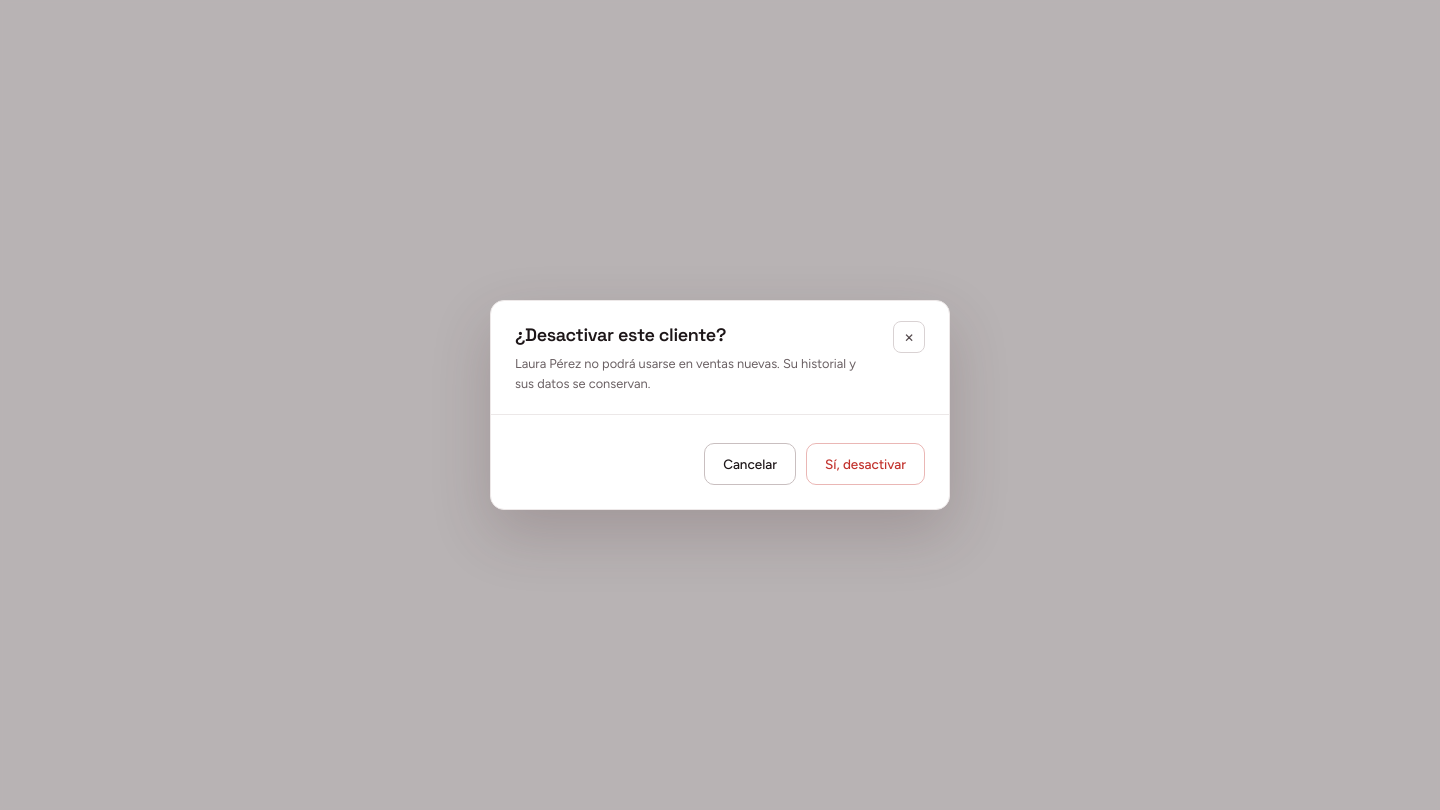
Test: CustomerStatusModal errors › tells when the customer no longer exists
Click the button "Sí, desactivar" at [865, 464], box x1=806 y1=443 x2=925 y2=485
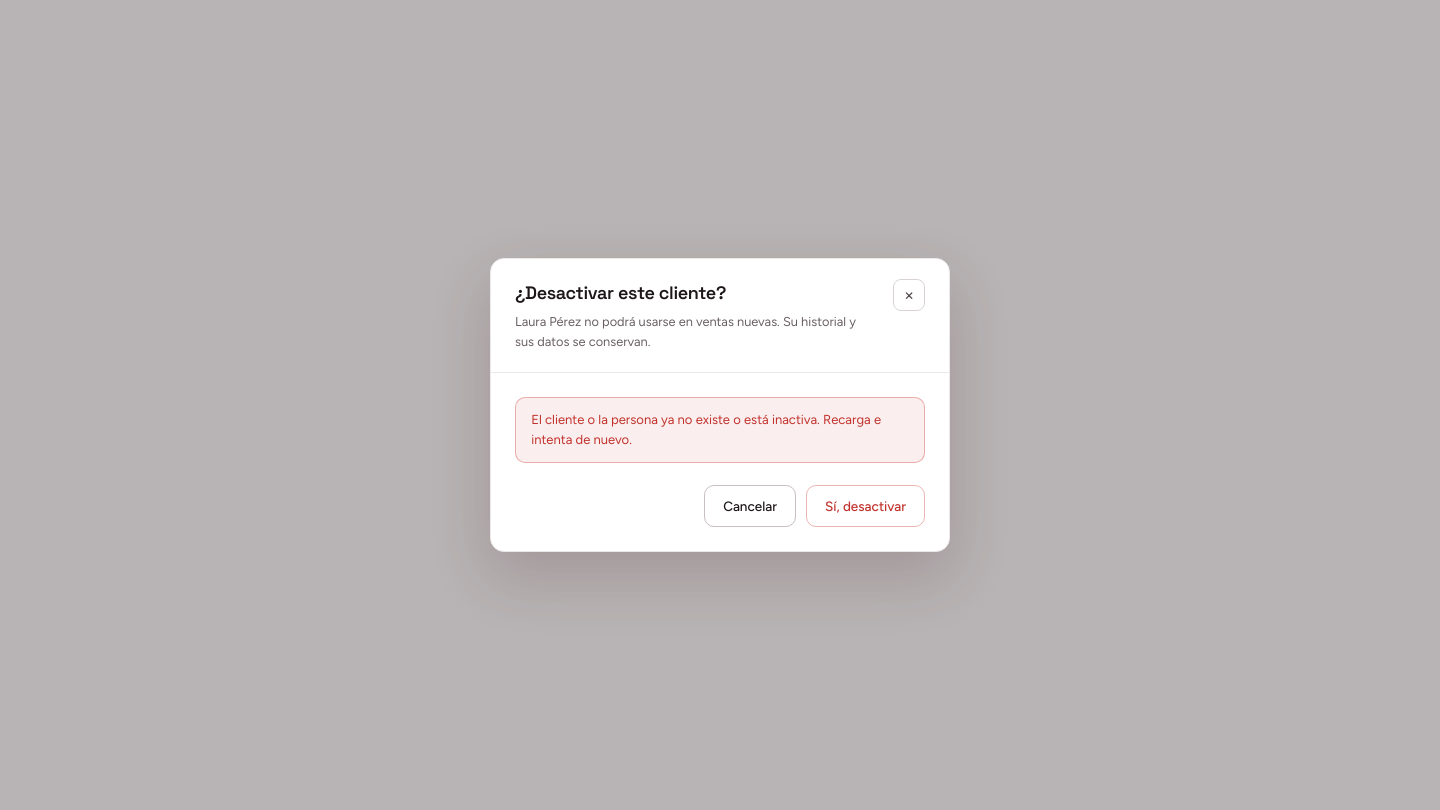
Now the message shows "El cliente o la persona ya no existe o está inactiva. Recarga e intenta de nuevo.", box x1=531 y1=412 x2=881 y2=447
